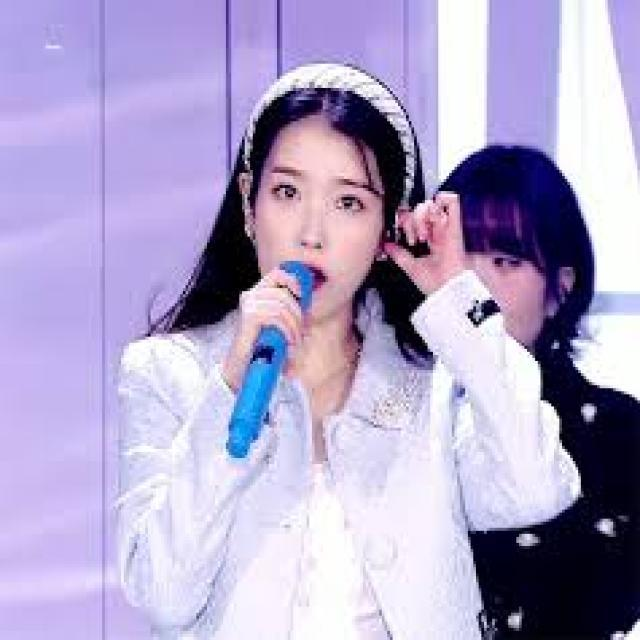earphone: (377, 211, 405, 260)
